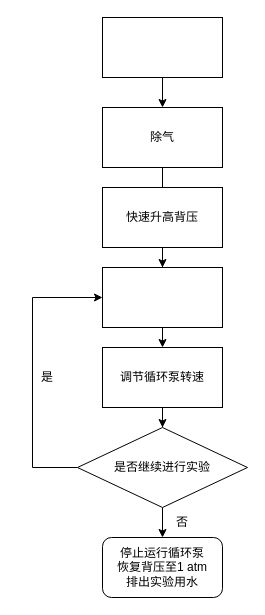
This 265x615 diagram has some shape labels left out. Each missing label, with the centre of its shape:
"上水" belongs at point (162, 47).
"调节攻角" belongs at point (162, 297).
